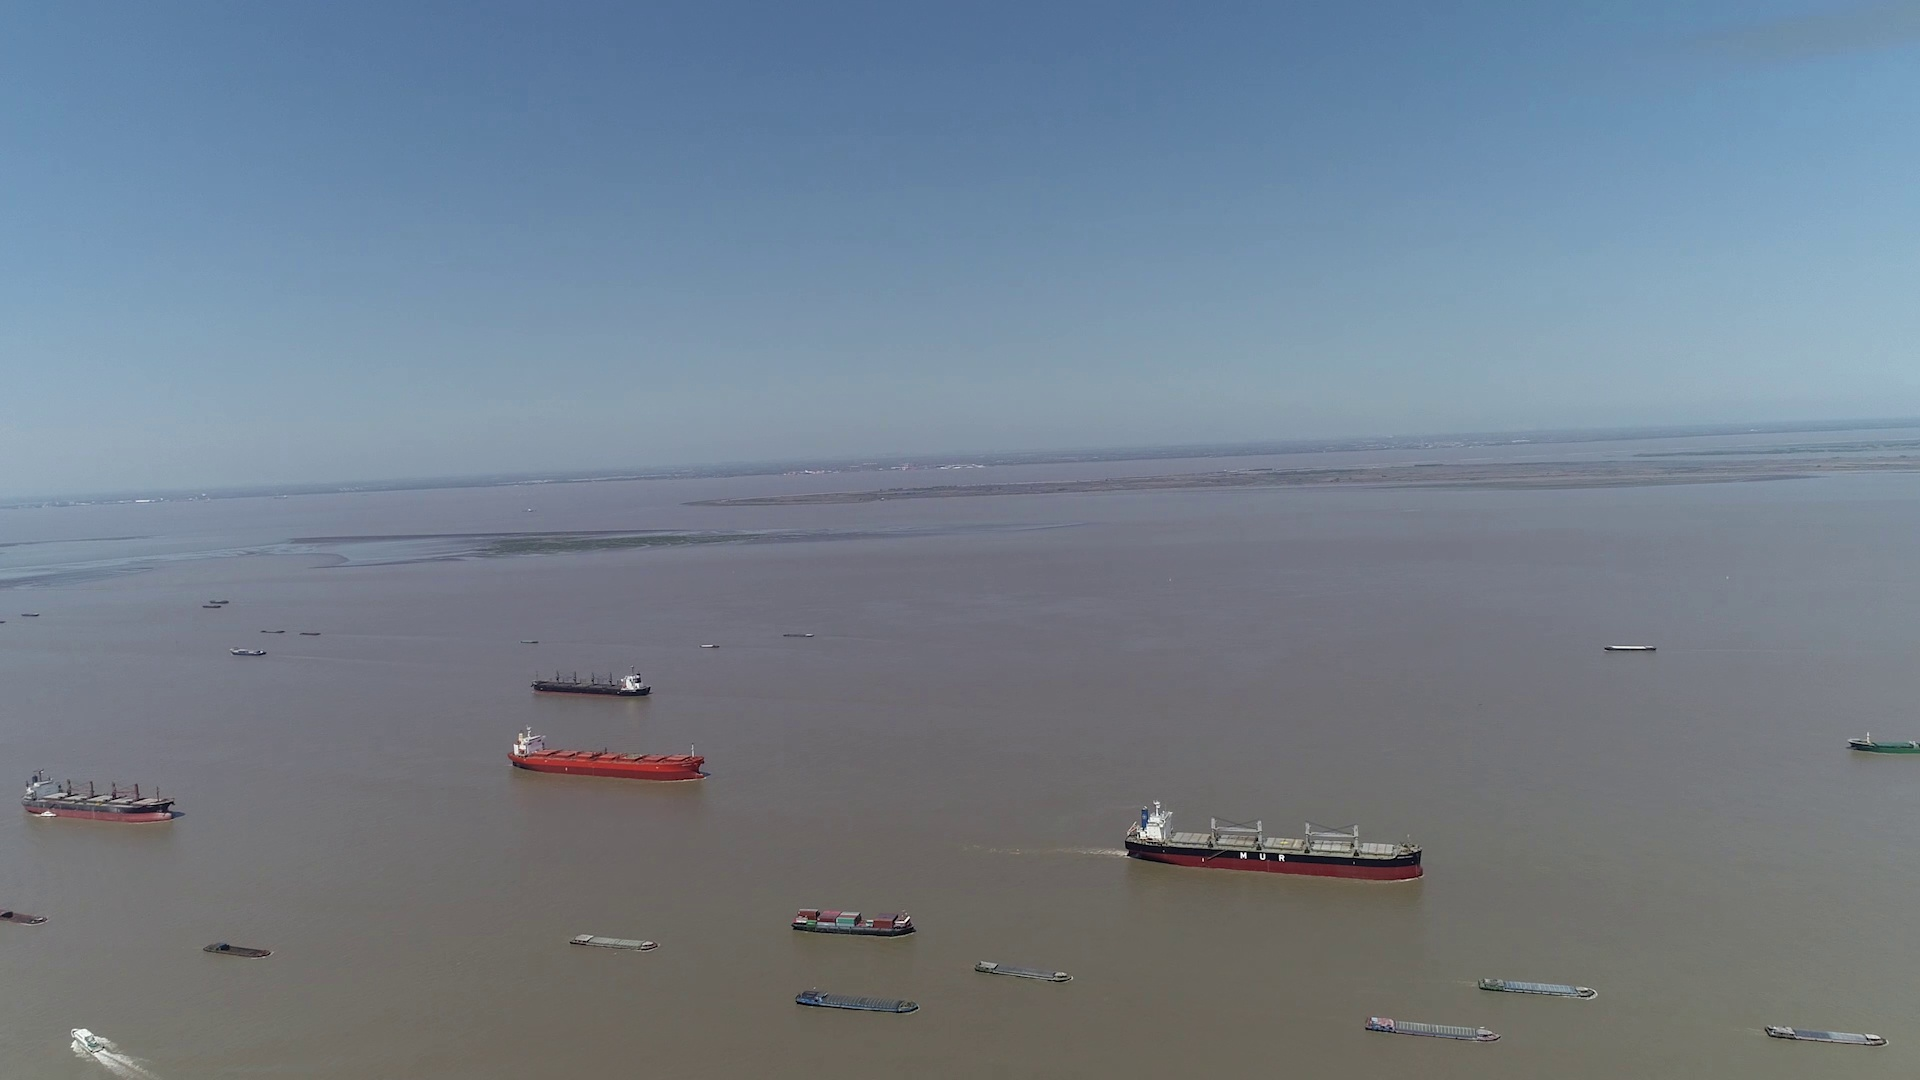ship: (1125, 802, 1420, 884), (506, 725, 705, 781), (22, 769, 177, 822), (522, 676, 661, 715), (789, 971, 918, 1006), (789, 907, 916, 938), (1365, 1015, 1502, 1043), (529, 667, 650, 696), (793, 989, 918, 1015), (1764, 1022, 1886, 1046), (1477, 976, 1596, 1000), (973, 959, 1073, 982), (1846, 731, 1917, 756), (568, 932, 658, 951), (69, 1030, 111, 1059), (204, 942, 272, 959), (0, 907, 46, 924), (1605, 642, 1658, 651), (231, 647, 266, 657)
